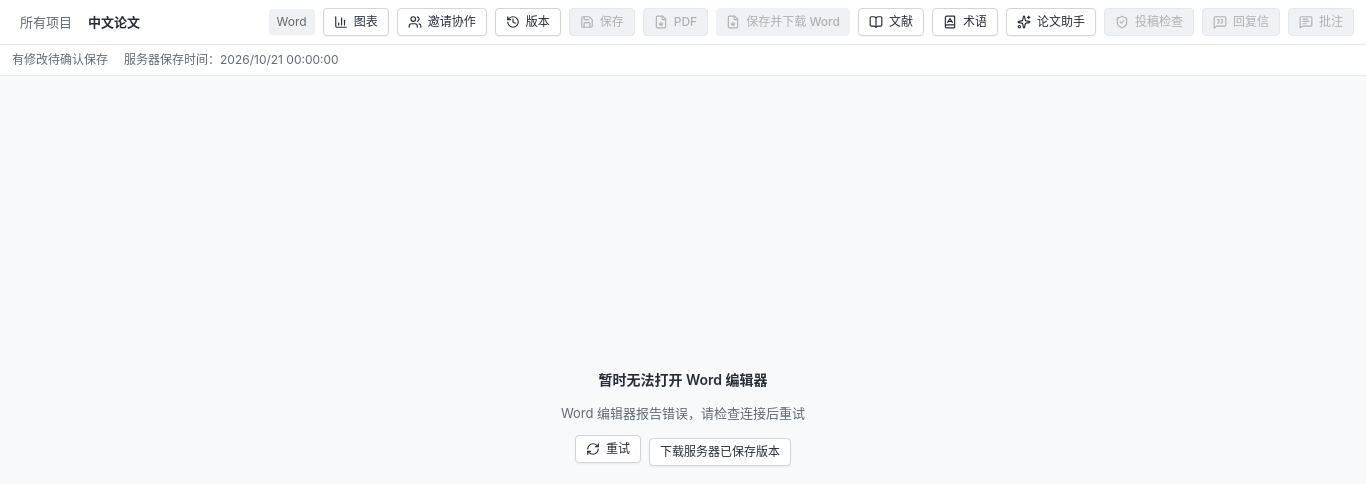
Scenario: Word 工作台 › 同稿重试重新加载时保留 dirty，重连后仍须本次回调确认
This screenshot has width=1366, height=484.
Click the button "重试".
click(608, 449)  # box [575,435,641,463]
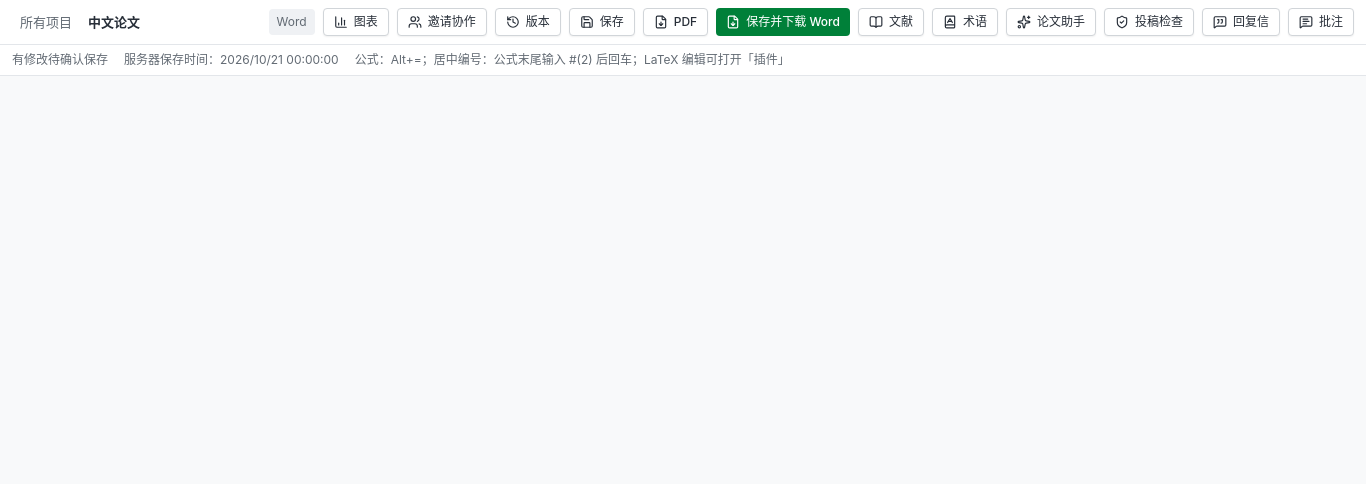
Expected: the text "有修改待确认保存" is shown, [12,51,108,69]
Click the button "保存".
click(602, 22)  # box [569,8,635,36]
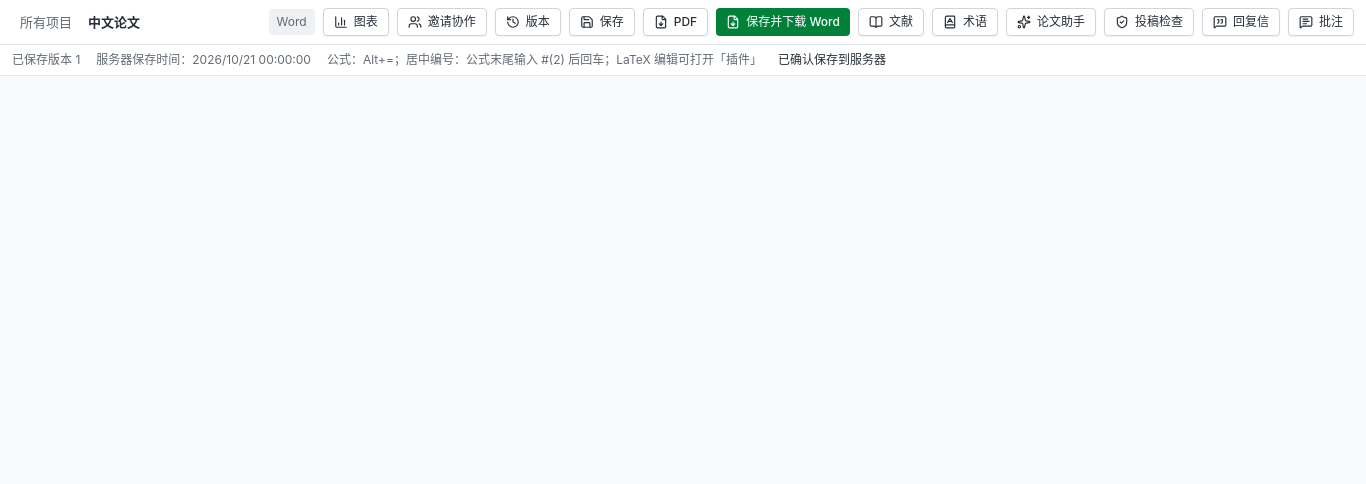
Result: the text "已确认保存到服务器" is shown at [778,51,886,69]
